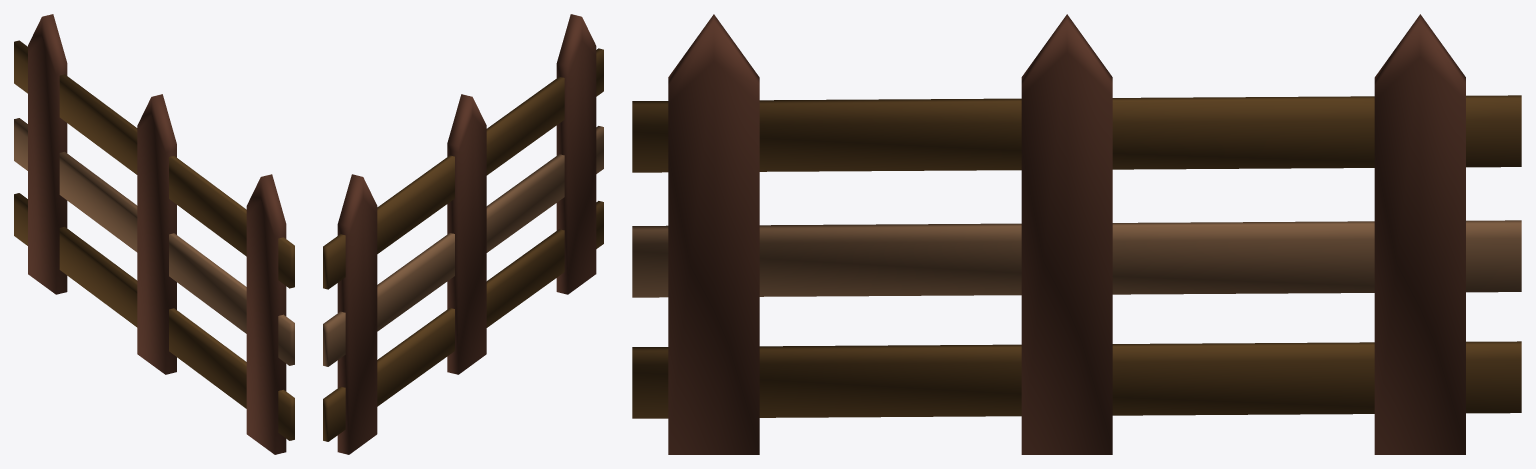
Rendered from FencePicketMedium_01.glb.
3 renders of one model, left to right at view 1: azimuth 30°, elevation 25°; view 2: azimuth 150°, elevation 25°; view 3: azimuth 270°, elevation 25°, orthographic. The views are drawn at different scales.
Visible parts, largest first — view 1: FencePicketMedium_01; view 2: FencePicketMedium_01; view 3: FencePicketMedium_01.
Boxes of the visible parts, x1=… form: FencePicketMedium_01: x1=14, y1=14, x2=294, y2=454; FencePicketMedium_01: x1=323, y1=14, x2=603, y2=454; FencePicketMedium_01: x1=632, y1=14, x2=1521, y2=454.
Size of what is drawn, in the model's own units: 0.0534 by 1.21 by 2.25.
Materials: 1 (1 with a texture image).
